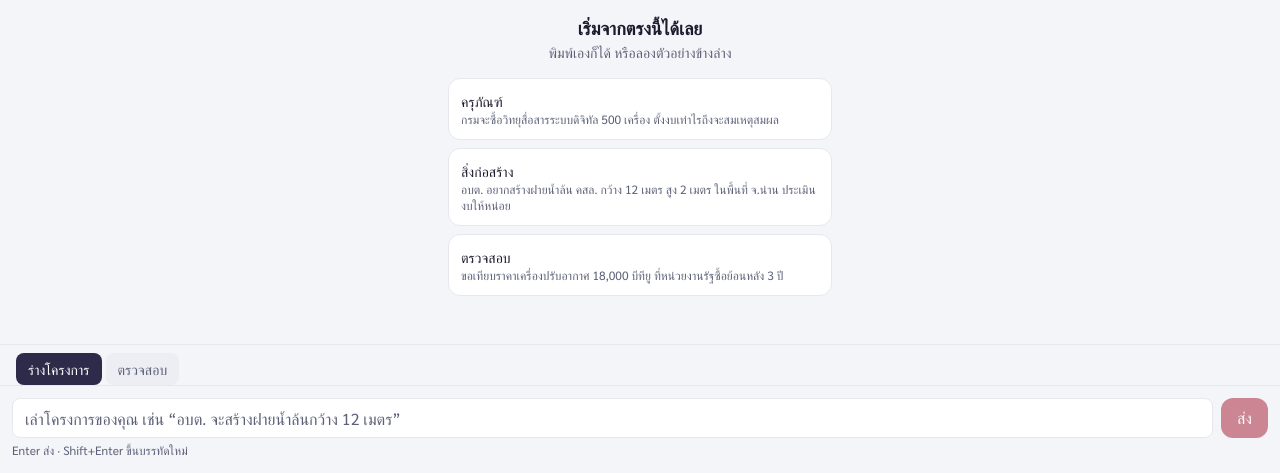
ChatPane — empty state (06 §4.2) › แสดงตัวอย่างโจทย์ 3 ข้อ และคลิกแล้วเติมข้อความลง composer (ไม่ส่งทันที)
Check: the heading "เริ่มจากตรงนี้ได้เลย" is shown, box [578,16,702,39]
Click the text "สิ่งก่อสร้าง" at (487,171), box [461,162,514,180]
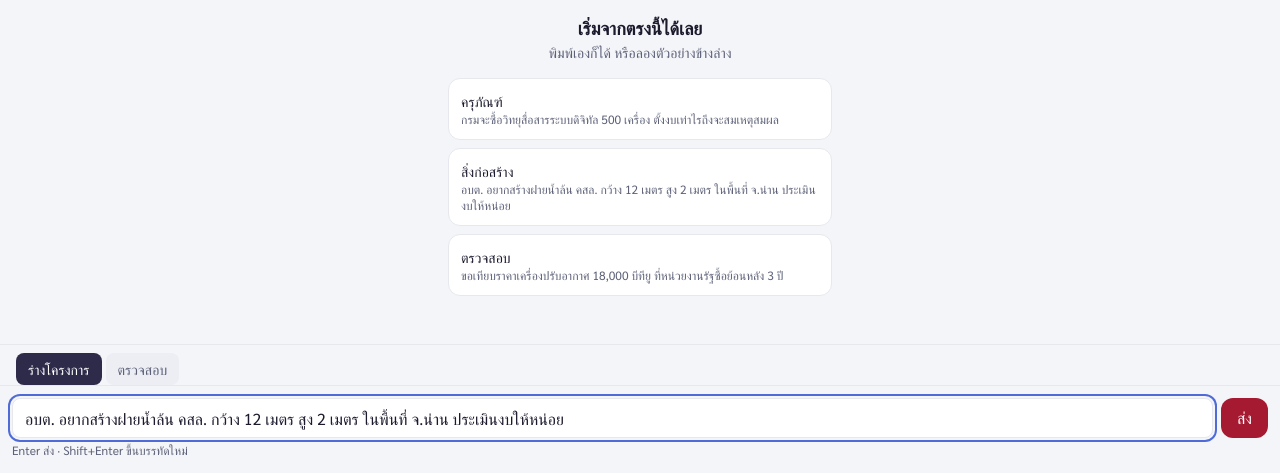
Check: the text box named "ช่องพิมพ์ข้อความ" holds "อบต. อยากสร้างฝายน้ำล้น คสล. กว้าง 12 เมตร สูง 2 เมตร ในพื้นที่ จ.น่าน ประเมินงบให้หน่อย", box [12,398,1213,438]
